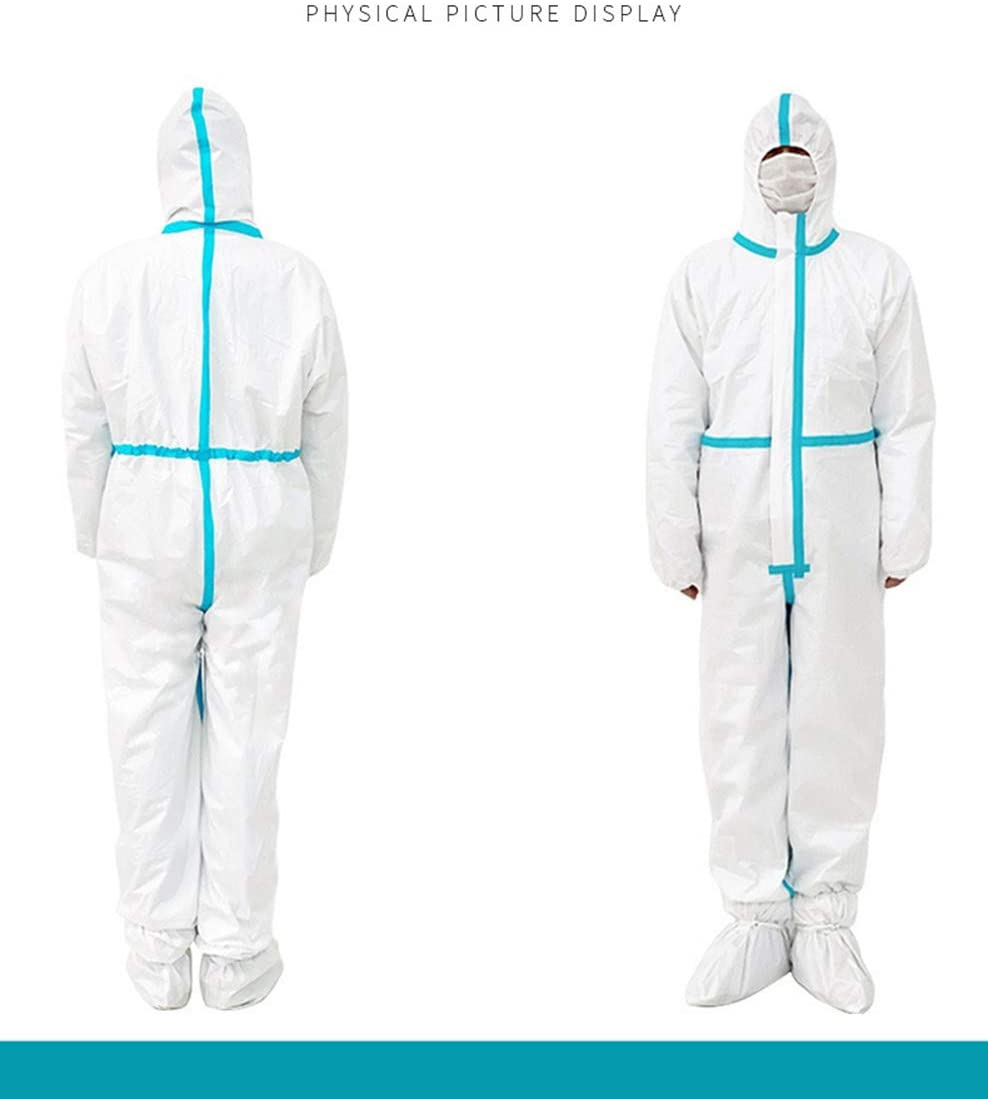Coverall: (59, 85, 347, 954), (649, 87, 939, 948)
with_mask: (755, 141, 818, 218)
